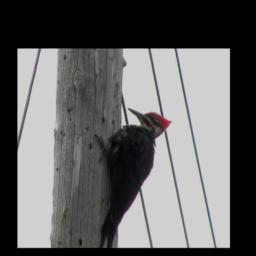Woodpecker: (93, 105, 174, 247)
